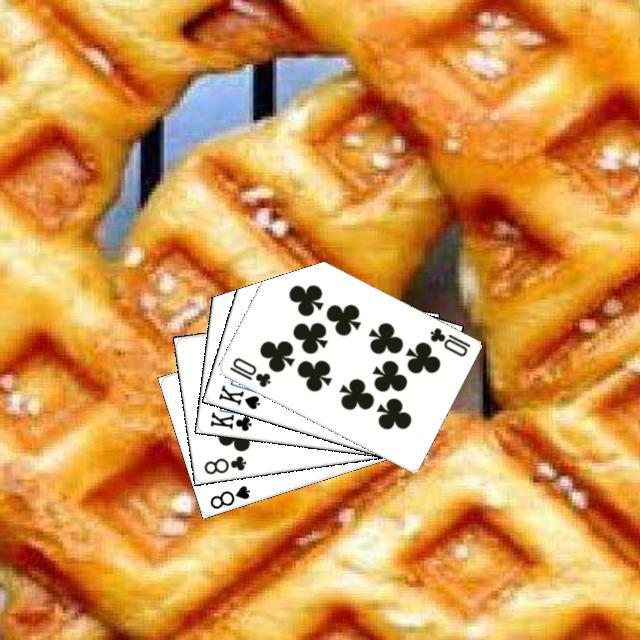10c: (224, 352, 272, 389), (425, 322, 472, 358)
8c: (199, 451, 248, 476)
8s: (205, 480, 252, 510)
Kc: (205, 404, 259, 433)
Ks: (213, 380, 262, 411)
